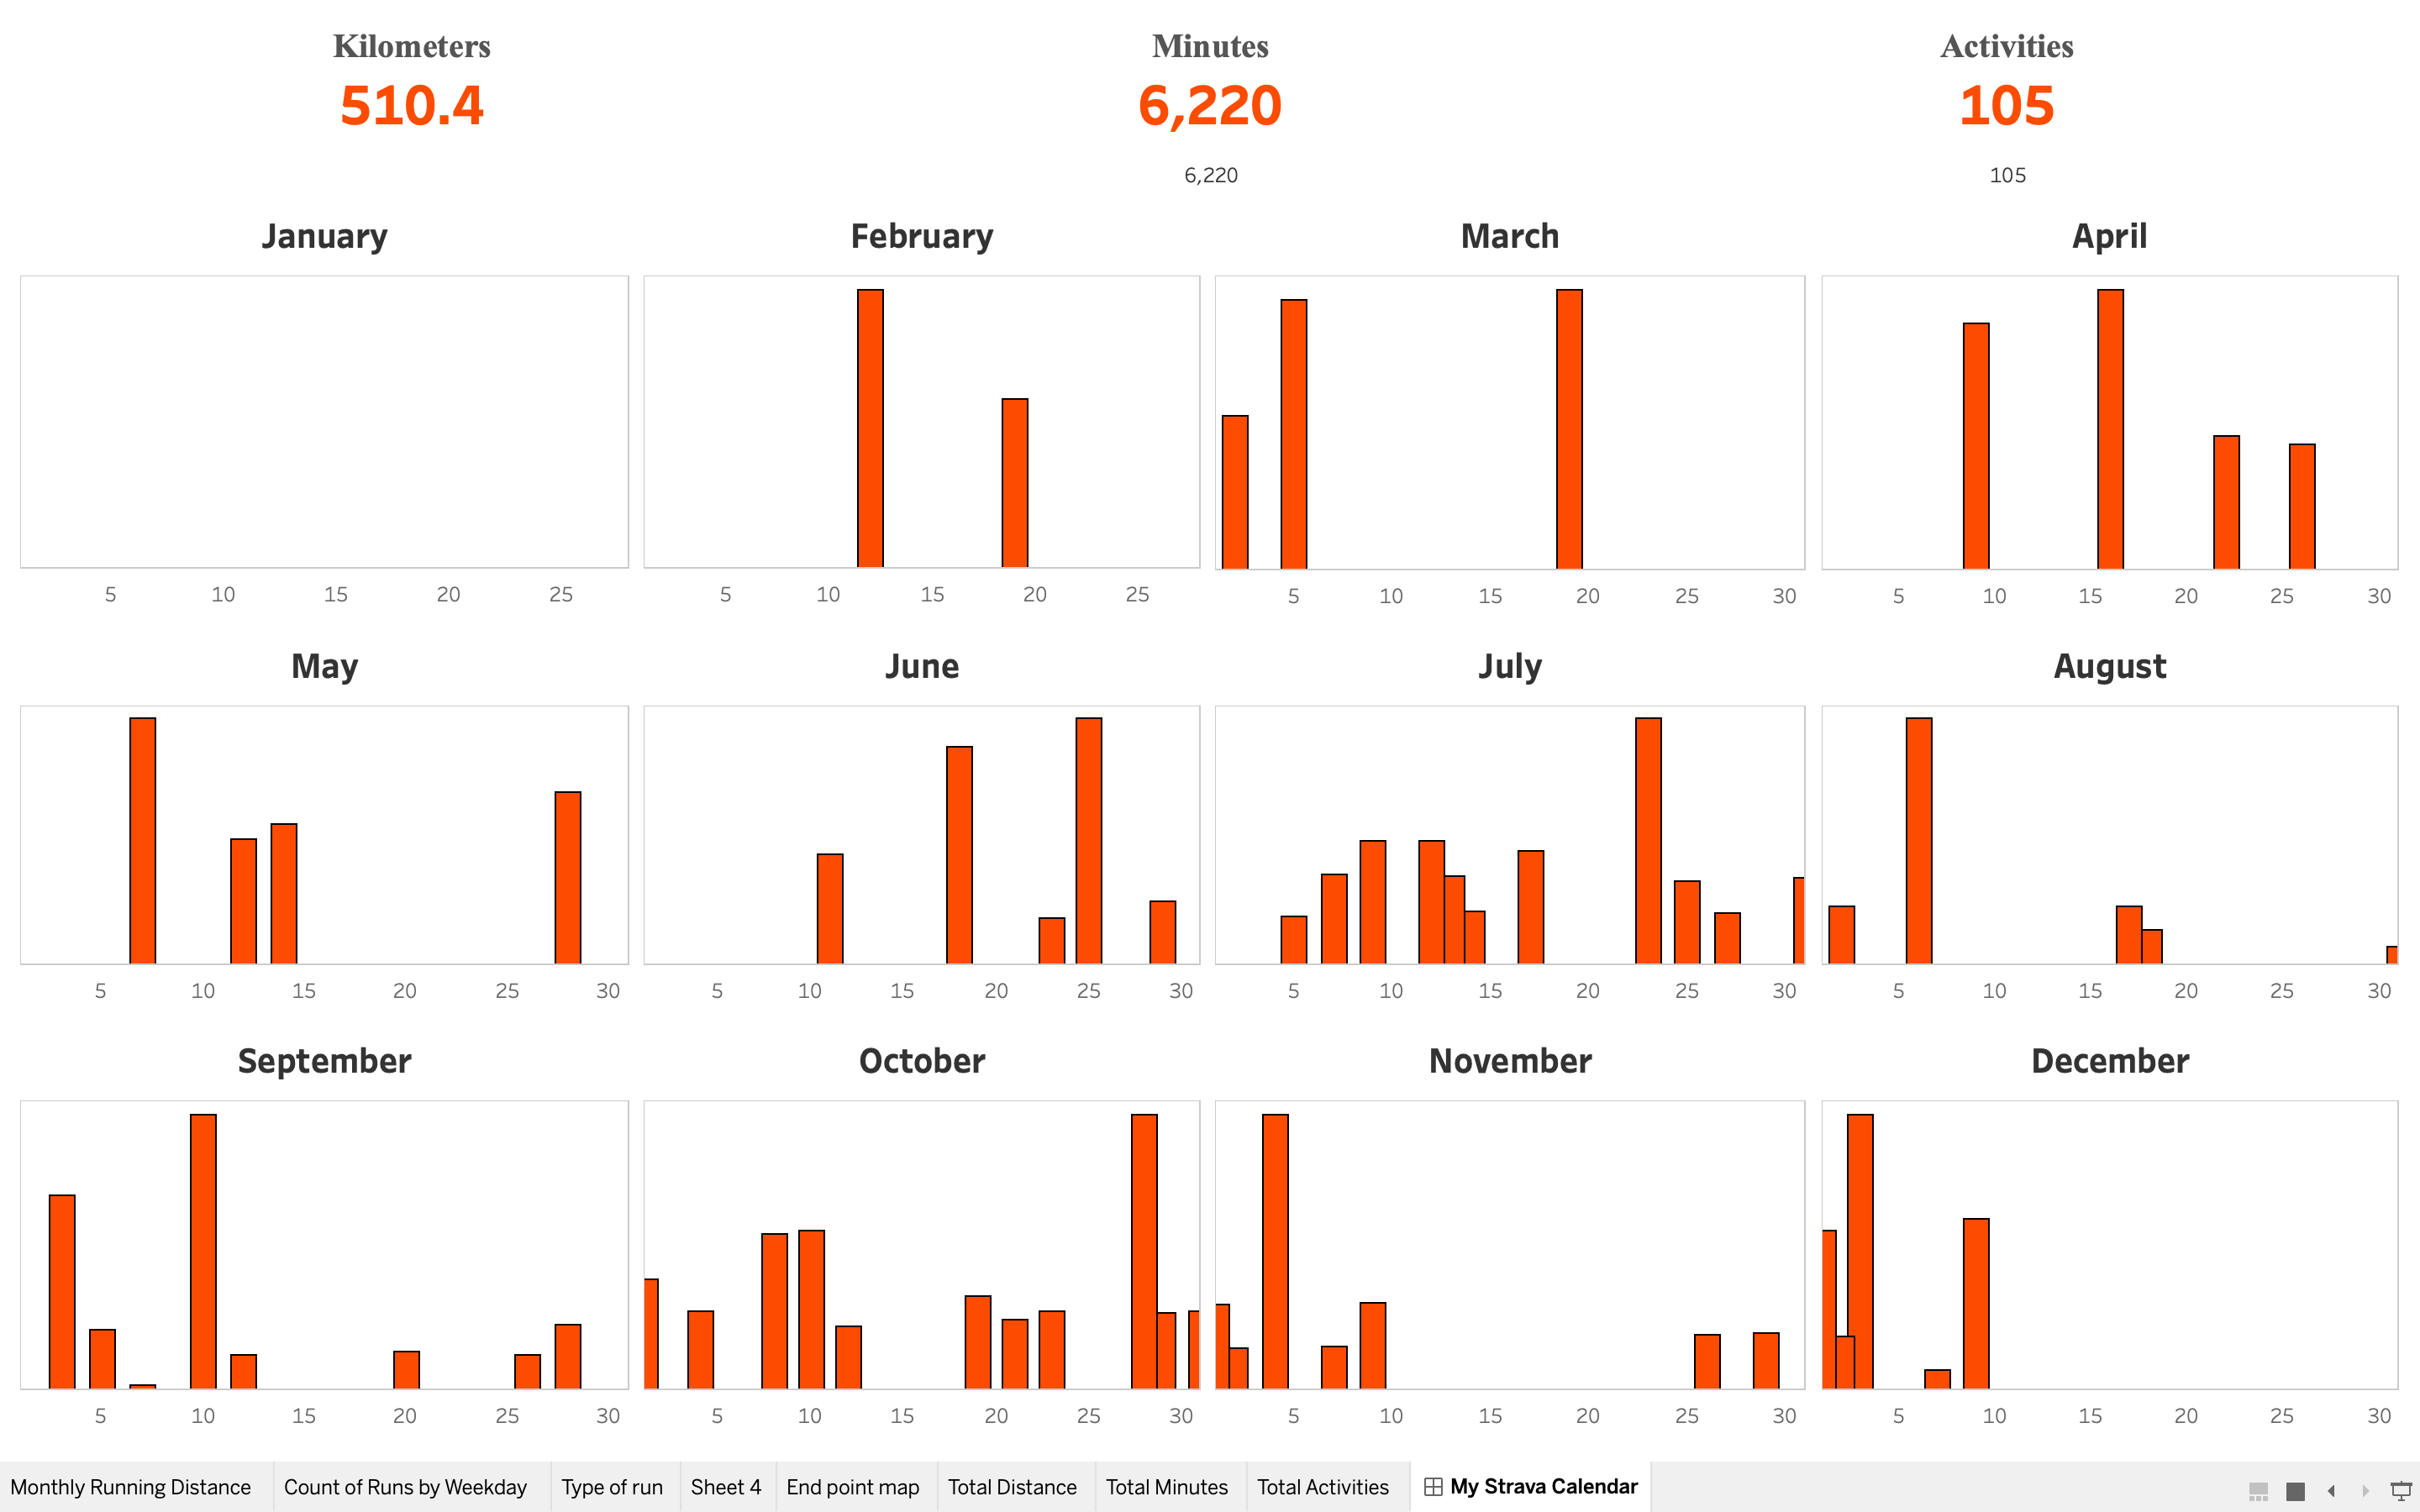

Layout of this report page (visuals, bound fields, positions):
{"tool":"tableau","page":{"name":"My Strava Calendar","canvas":[1000,1000],"units":"permille","ordinal":0},"visuals":[{"type":"worksheet","title":"Total Distance","mark":"Text","box":[6.5,11.7,329,126.2]},{"type":"worksheet","title":"Total Minutes","mark":"Automatic","box":[335.5,11.7,329,126.2]},{"type":"worksheet","title":"Total Activities","mark":"Automatic","box":[664.5,11.7,329,126.2]},{"type":"worksheet","title":"January","mark":"Bar","rows":["Calculation_2069615166419980288"],"cols":["start_date_local","start_date_local","start_date_local"],"box":[6.5,138,257.1,292.1]},{"type":"worksheet","title":"February","mark":"Bar","rows":["Calculation_2069615166419980288"],"cols":["start_date_local","start_date_local","start_date_local"],"box":[263.6,138,236,292.1]},{"type":"worksheet","title":"March","mark":"Bar","rows":["Calculation_2069615166419980288"],"cols":["start_date_local","start_date_local","start_date_local"],"box":[499.6,138,249.8,292.5]},{"type":"worksheet","title":"April","mark":"Bar","rows":["Calculation_2069615166419980288"],"cols":["start_date_local","start_date_local","start_date_local"],"box":[749.4,138,244.1,292.5]},{"type":"worksheet","title":"May","mark":"Bar","rows":["Calculation_2069615166419980288"],"cols":["start_date_local","start_date_local","start_date_local"],"box":[6.5,430,257.1,268.8]},{"type":"worksheet","title":"June","mark":"Bar","rows":["Calculation_2069615166419980288"],"cols":["start_date_local","start_date_local","start_date_local"],"box":[263.6,430,236,268.8]},{"type":"worksheet","title":"July","mark":"Bar","rows":["Calculation_2069615166419980288"],"cols":["start_date_local","start_date_local","start_date_local"],"box":[499.6,430.4,249.8,268.4]},{"type":"worksheet","title":"August","mark":"Bar","rows":["Calculation_2069615166419980288"],"cols":["start_date_local","start_date_local","start_date_local"],"box":[749.4,430.4,244.1,268.4]},{"type":"worksheet","title":"September","mark":"Bar","rows":["Calculation_2069615166419980288"],"cols":["start_date_local","start_date_local","start_date_local"],"box":[6.5,698.8,257.1,289.5]},{"type":"worksheet","title":"October","mark":"Bar","rows":["Calculation_2069615166419980288"],"cols":["start_date_local","start_date_local","start_date_local"],"box":[263.6,698.8,236,289.5]},{"type":"worksheet","title":"November","mark":"Bar","rows":["Calculation_2069615166419980288"],"cols":["start_date_local","start_date_local","start_date_local"],"box":[499.6,698.8,249.8,289.5]},{"type":"worksheet","title":"December","mark":"Bar","rows":["Calculation_2069615166419980288"],"cols":["start_date_local","start_date_local","start_date_local"],"box":[749.4,698.8,244.1,289.5]}]}

Visuals, with their boxes on the dashboard's canvas, which has no fixed pixel size, in thousandths of its width and height (x1, y1, x2, y2). These are canvas units, not pixel positions in the 2420x1512 screenshot, which may show the page scaled, cropped or inside an application window:
"Total Distance" worksheet (Text marks): 6 12 336 138
"Total Minutes" worksheet: 336 12 664 138
"Total Activities" worksheet: 664 12 994 138
"January" worksheet (Bar marks): 6 138 264 430
"February" worksheet (Bar marks): 264 138 500 430
"March" worksheet (Bar marks): 500 138 749 430
"April" worksheet (Bar marks): 749 138 994 430
"May" worksheet (Bar marks): 6 430 264 699
"June" worksheet (Bar marks): 264 430 500 699
"July" worksheet (Bar marks): 500 430 749 699
"August" worksheet (Bar marks): 749 430 994 699
"September" worksheet (Bar marks): 6 699 264 988
"October" worksheet (Bar marks): 264 699 500 988
"November" worksheet (Bar marks): 500 699 749 988
"December" worksheet (Bar marks): 749 699 994 988
